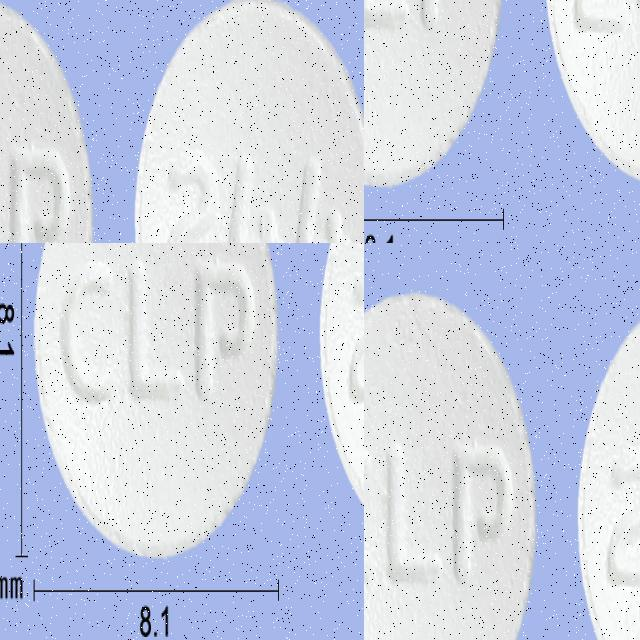Azafrine Tab: (364, 0, 508, 192), (542, 0, 640, 187)
Celltrion Levofloxacin: (364, 288, 541, 640), (575, 288, 640, 640)
Ciracle: (62, 244, 239, 440)
Clarimacin - 500mg: (119, 0, 364, 238)
